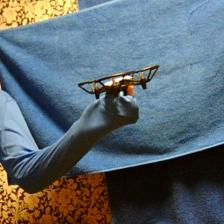drone: (76, 65, 160, 98)
